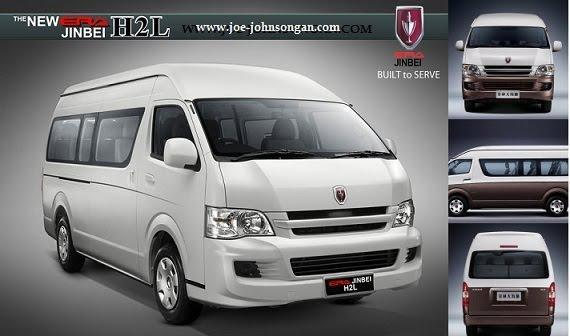Van: (39, 62, 439, 321)
